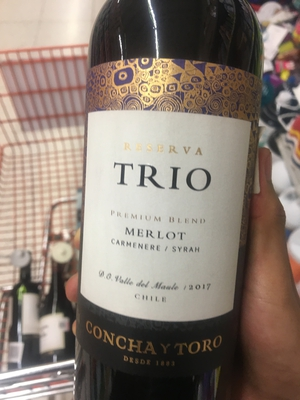trio merlot: (68, 2, 273, 400)
